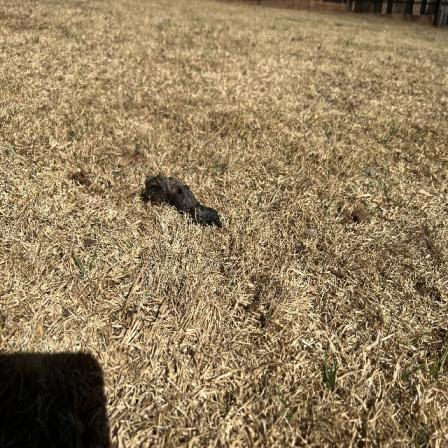dog-poop: (142, 165, 220, 229)
